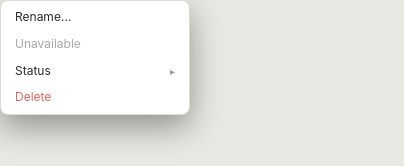
Scenario: keyboard navigation — an NSMenu walk (M58) › walking the parent panel closes an open submenu rather than orphaning it
Step 1. Hover over the text "Status" → (33, 70), box [15,63,51,78]
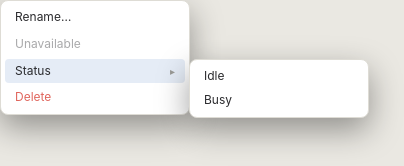
Check: the menu with test id "context-submenu" is shown, box [189,59,369,118]
Step 2. Press ArrowDown
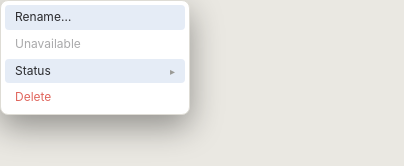
Check: the menu with test id "context-submenu" is gone
